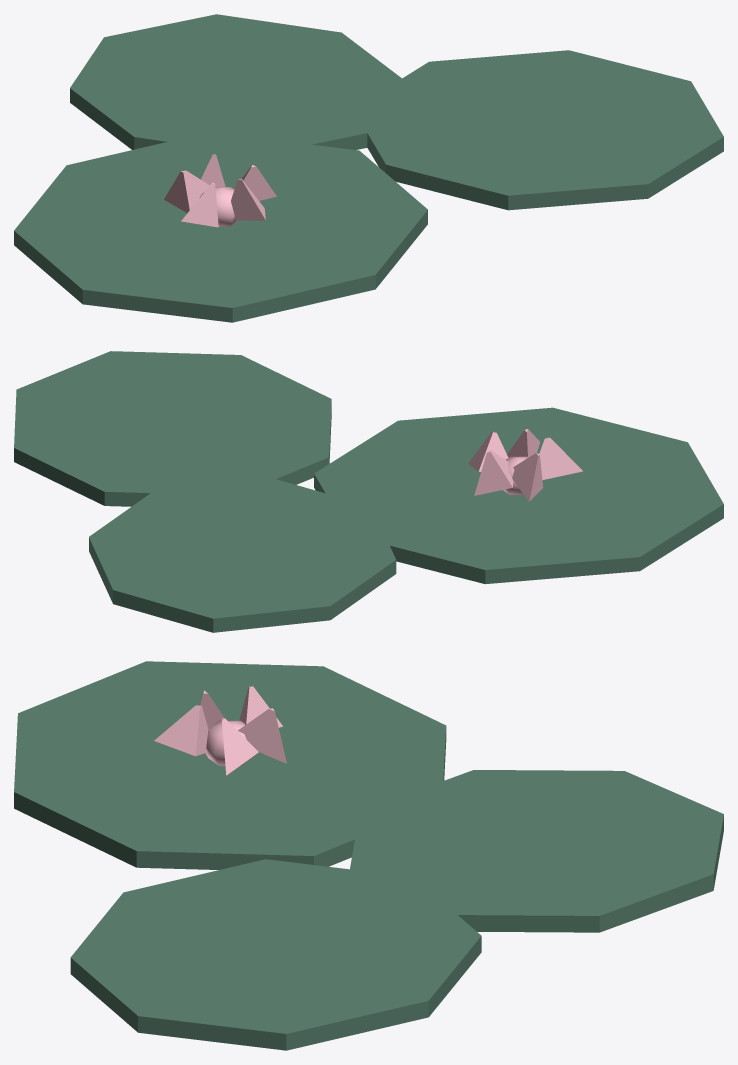
Rendered from lily-pad-set.glb.
3 renders of one model, top to bottom at view 1: azimuth 30°, elevation 25°; view 2: azimuth 150°, elevation 25°; view 3: azimuth 270°, elevation 25°, orthographic. The views are drawn at different scales.
Parts seen in each view (by area): view 1: lily-pad-set; view 2: lily-pad-set; view 3: lily-pad-set.
Part boxes in pixels (<box>): lily-pad-set: <box>14,14,723,322</box>; lily-pad-set: <box>14,351,723,632</box>; lily-pad-set: <box>14,661,723,1050</box>.
Size of the model in its own units: 0.5753 by 0.0529 by 0.4631.
